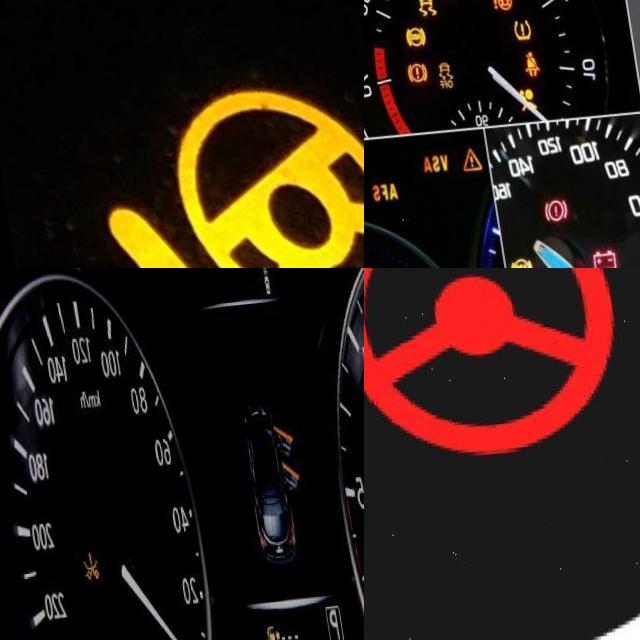Electronic Power Steering: (81, 86, 364, 268)
Electronic Power Steering Warning: (364, 268, 620, 475), (485, 0, 507, 16)
Seat Belt: (515, 54, 532, 82)
